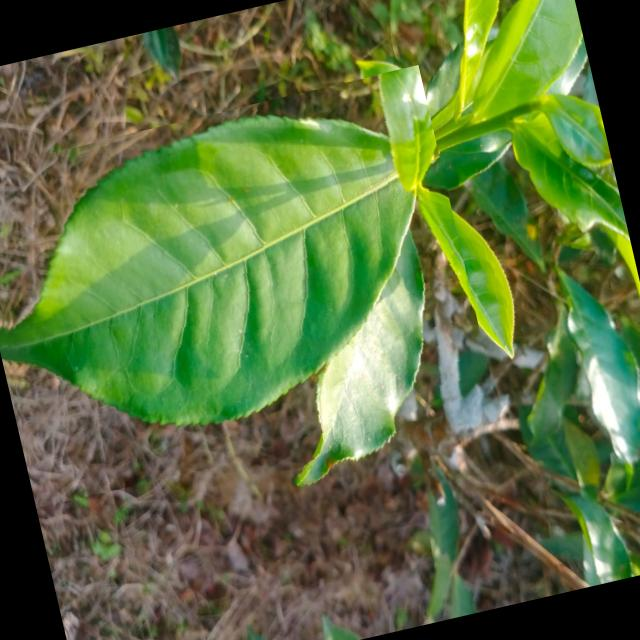Category D(7+ days, Not for Tea): (0, 65, 495, 508)
